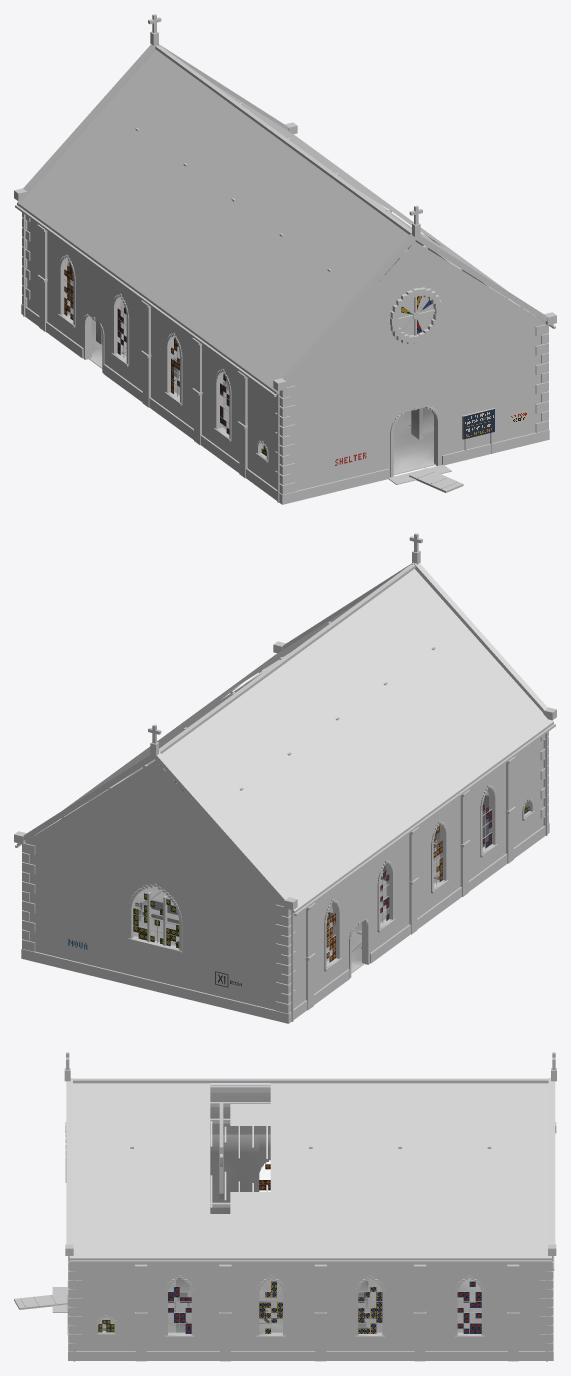
Rendered from church.glb.
3 renders of one model, top to bottom at view 1: azimuth 30°, elevation 25°; view 2: azimuth 150°, elevation 25°; view 3: azimuth 270°, elevation 25°, orthographic. The views are drawn at different scales.
Parts seen in each view (by area): view 1: church; view 2: church; view 3: church.
Part boxes in pixels (bbox=[...]): church: bbox=[14, 14, 556, 504]; church: bbox=[14, 533, 556, 1023]; church: bbox=[14, 1052, 556, 1361].
Bounding box in the file's own units: 15.22 × 13.77 × 27.35.
Materials: 3 (2 with a texture image).
